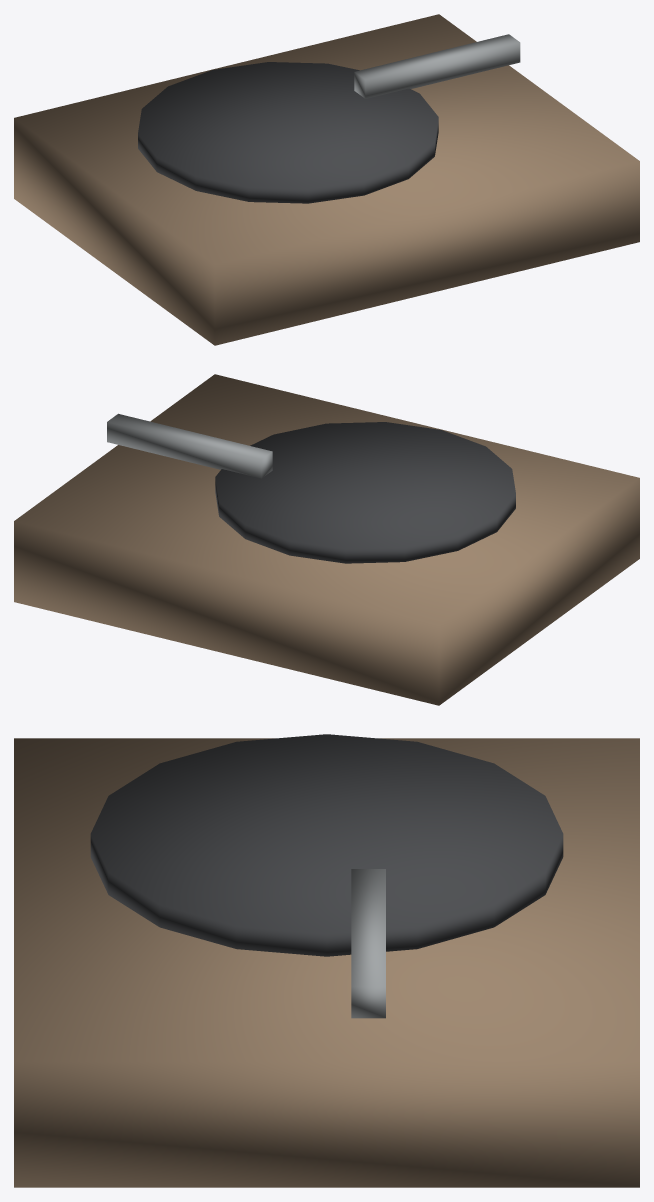
File: record_player.glb
The picture shows the model from 3 angles, top to bottom: view 1: azimuth 30°, elevation 25°; view 2: azimuth 150°, elevation 25°; view 3: azimuth 270°, elevation 25°; orthographic projection. The views are drawn at different scales.
Parts seen in each view (by area): view 1: world; view 2: world; view 3: world.
Part boxes in pixels (box(x1,y1,x2,y2)): world: box(14, 14, 639, 345); world: box(14, 374, 639, 705); world: box(14, 734, 639, 1187).
Bounding box in the file's own units: 0.55 × 0.1525 × 0.45.
